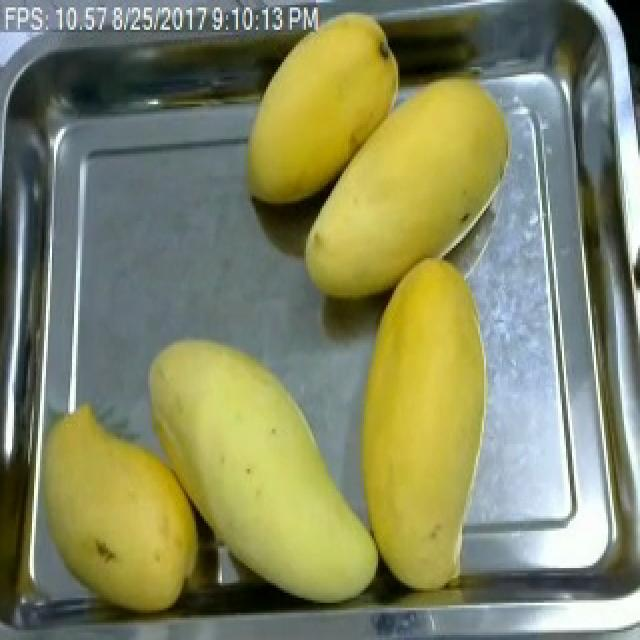fruit: (128, 327, 402, 613), (290, 52, 538, 315), (332, 243, 512, 605), (34, 397, 216, 625)
